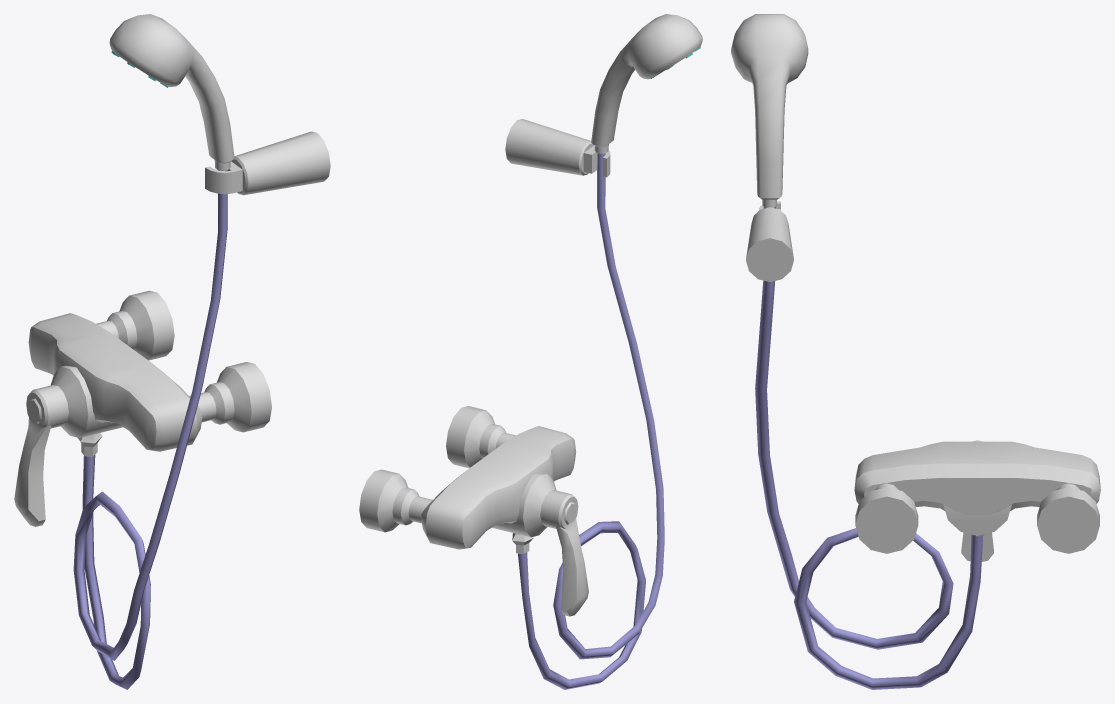
Rendered from KOHLER8655T.FBX.
The picture shows the model from 3 angles, left to right: view 1: azimuth 30°, elevation 25°; view 2: azimuth 150°, elevation 25°; view 3: azimuth 270°, elevation 25°; orthographic projection. The views are drawn at different scales.
Visible parts, largest first — view 1: KOHLER8655T; view 2: KOHLER8655T; view 3: KOHLER8655T.
Boxes of the visible parts, left/top/right/bottom form: KOHLER8655T: left=14, top=14, right=330, bottom=689; KOHLER8655T: left=359, top=14, right=702, bottom=689; KOHLER8655T: left=731, top=14, right=1100, bottom=689.
Bounding box in the file's own units: 404 × 1357 × 686.
